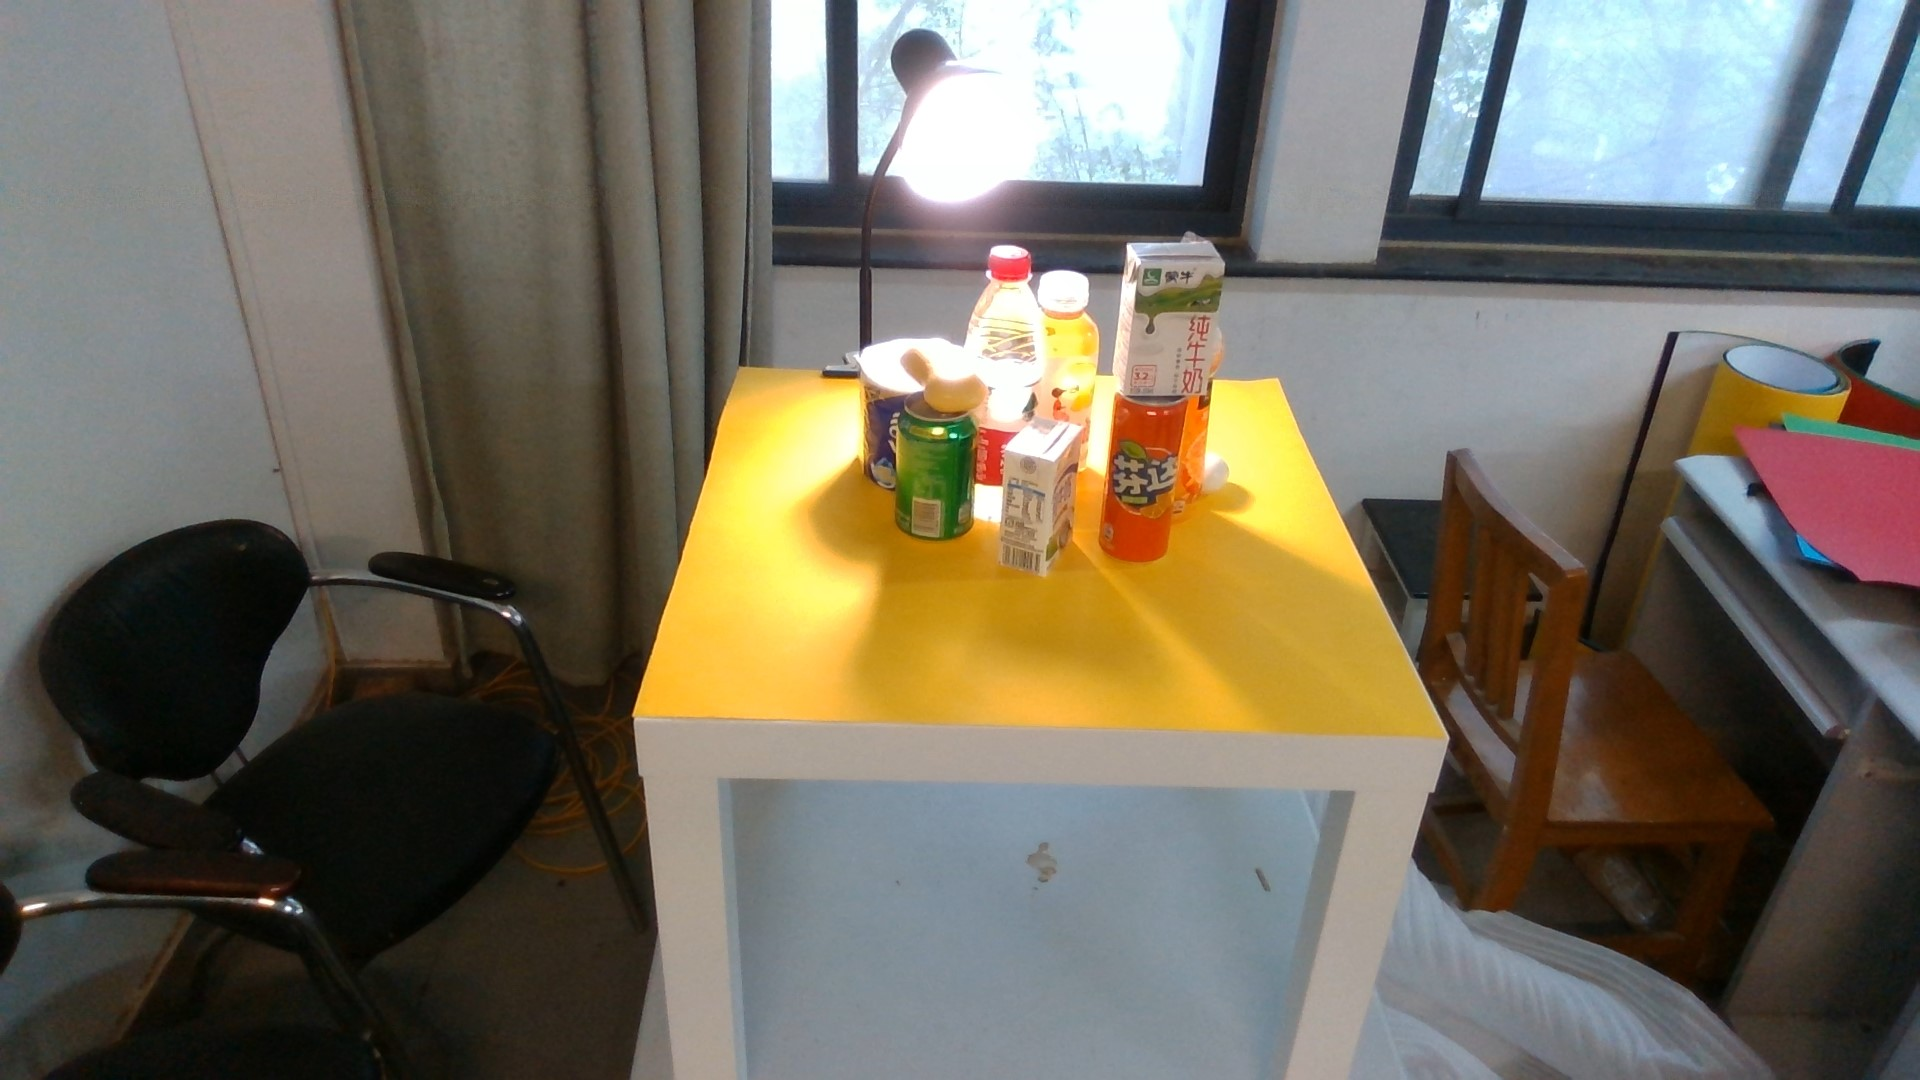BB003: (902, 342, 986, 417), (1205, 456, 1230, 489)
BB009: (1116, 243, 1226, 402)
BB013: (1002, 421, 1080, 574)
CA002: (862, 339, 898, 495)
ZC001: (894, 423, 973, 545)
ZC003: (1104, 402, 1179, 563)
ZC006: (1182, 400, 1205, 517)
ZC012: (1044, 266, 1100, 419)
ZC014: (986, 243, 1048, 423)
